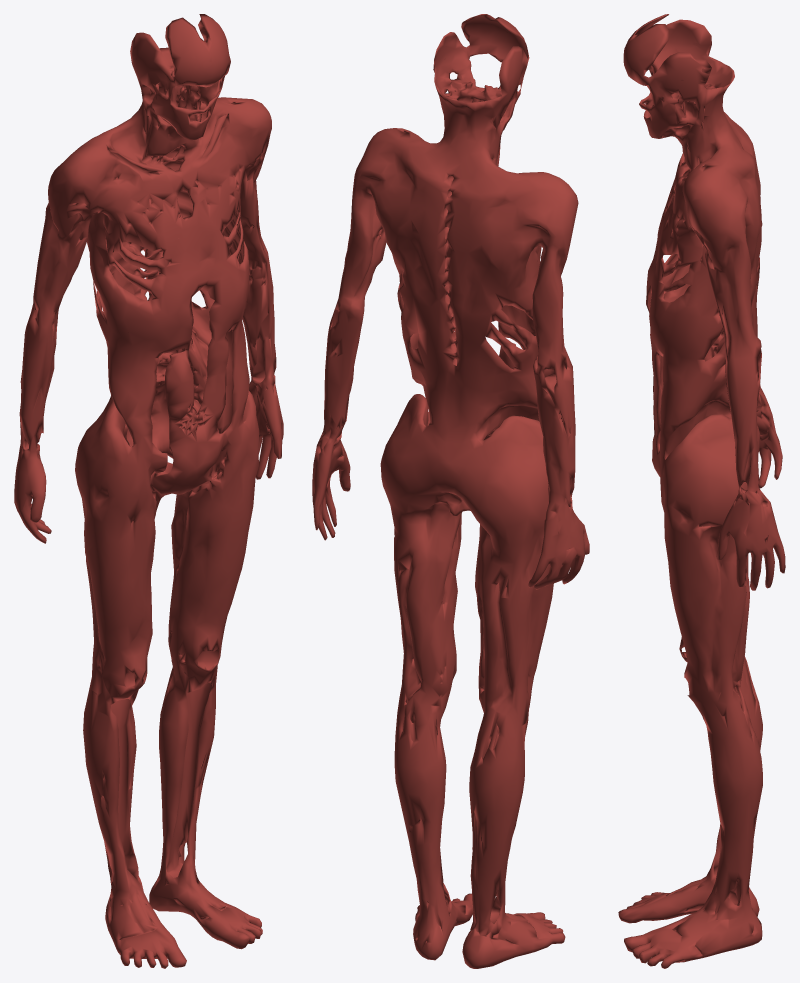
Rendered from icrp_adult_female.muscular.LOD2.glb.
3 renders of one model, left to right at view 1: azimuth 30°, elevation 25°; view 2: azimuth 150°, elevation 25°; view 3: azimuth 270°, elevation 25°, orthographic.
Parts seen in each view (by area): view 1: ICRP.ADULT.FEMALE.MUSCULAR.MUSCLE; view 2: ICRP.ADULT.FEMALE.MUSCULAR.MUSCLE; view 3: ICRP.ADULT.FEMALE.MUSCULAR.MUSCLE.
Part boxes in pixels (x1,y1,x2,y2): ICRP.ADULT.FEMALE.MUSCULAR.MUSCLE: (14,14,283,968); ICRP.ADULT.FEMALE.MUSCULAR.MUSCLE: (312,14,589,968); ICRP.ADULT.FEMALE.MUSCULAR.MUSCLE: (618,14,785,968).
Size of the model in its own units: 0.4886 by 1.62 by 0.2684.
